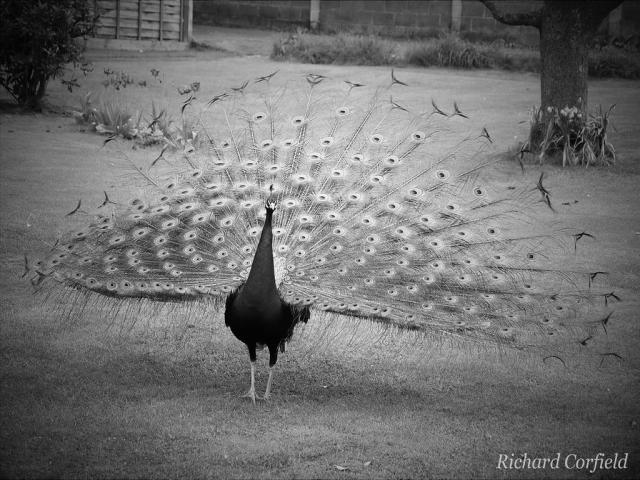Bird: (21, 67, 627, 406)
